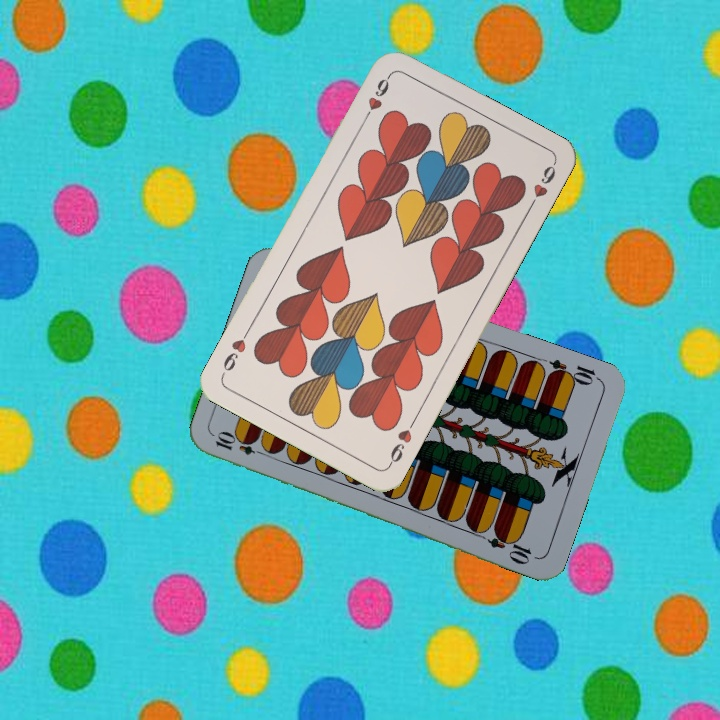E10: (544, 355, 603, 388), (211, 430, 270, 459)
H9: (384, 415, 419, 469), (359, 71, 394, 125)
